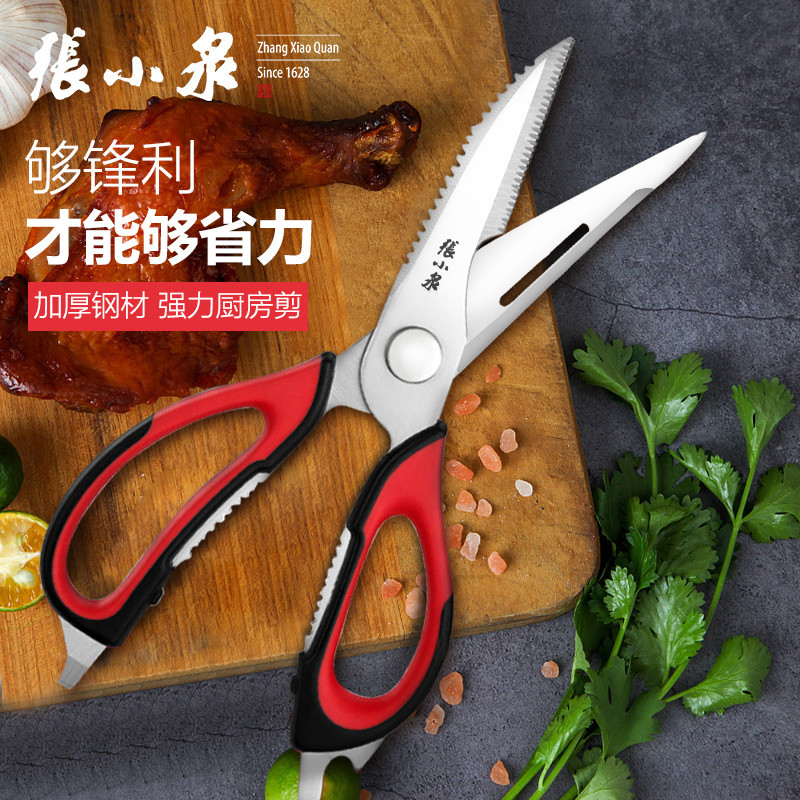scissors: (31, 32, 711, 800)
